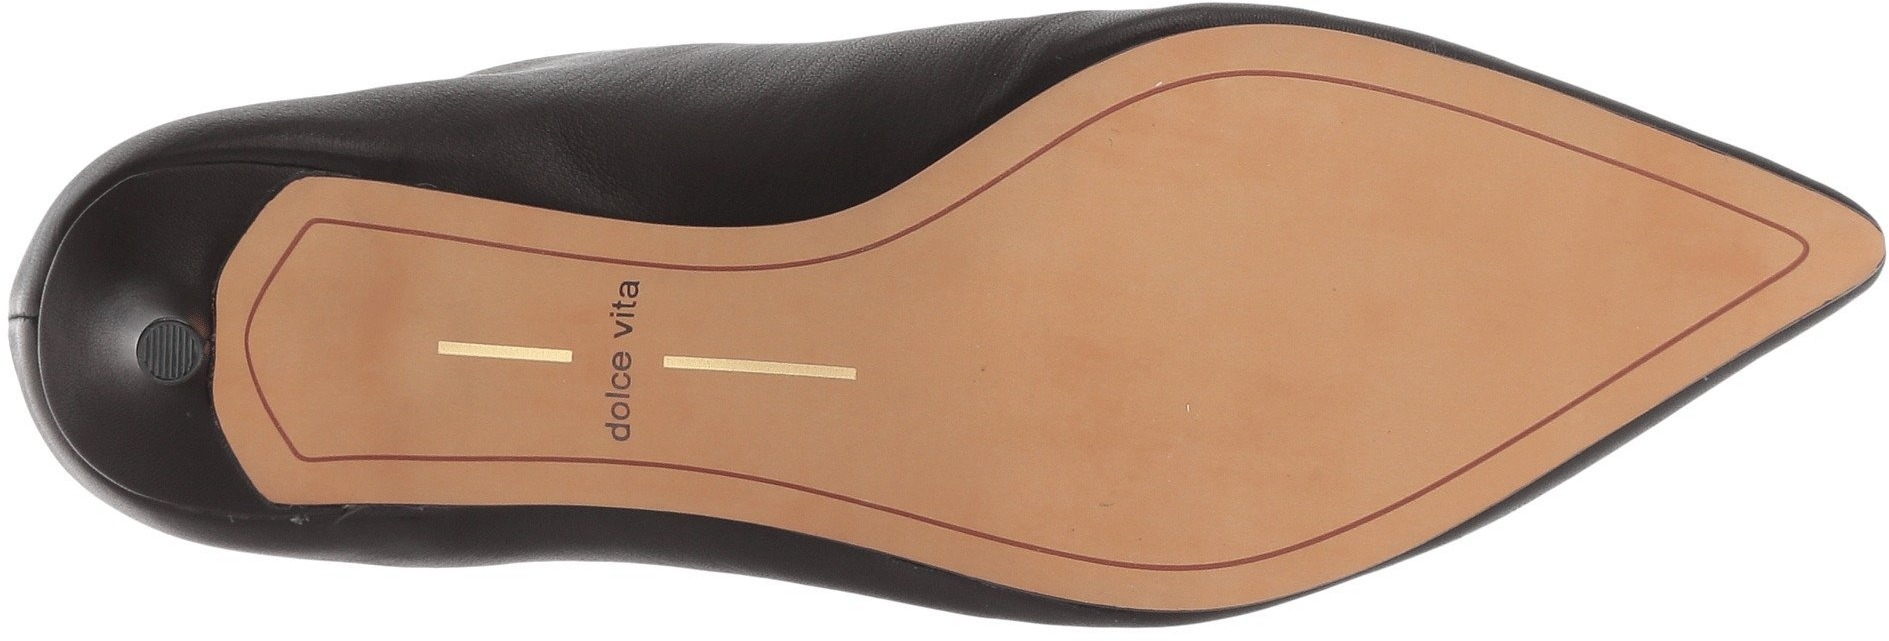circle: (577, 354, 669, 446)
other: (1077, 171, 1326, 410), (1357, 157, 1591, 389), (859, 274, 1067, 488), (1078, 423, 1222, 558), (1242, 421, 1358, 525), (147, 330, 192, 371)
text: (577, 354, 669, 446), (582, 277, 658, 349)
